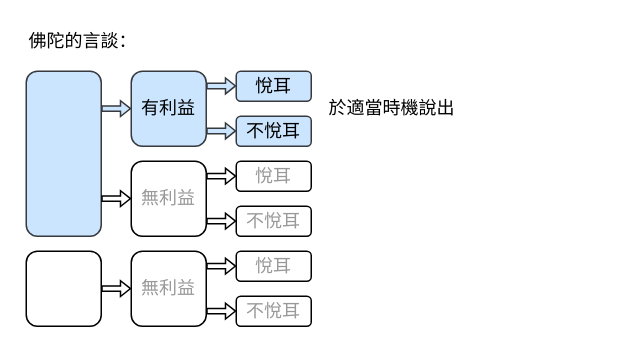
This 638x353 diagram has some shape labels left out. The shapes that lost their labels are listed below. From the top down, each one's centre as x and y in pixels, then its label:
At pixel 63 153: "真實 正確".
At pixel 63 288: "不真實 不正確".
